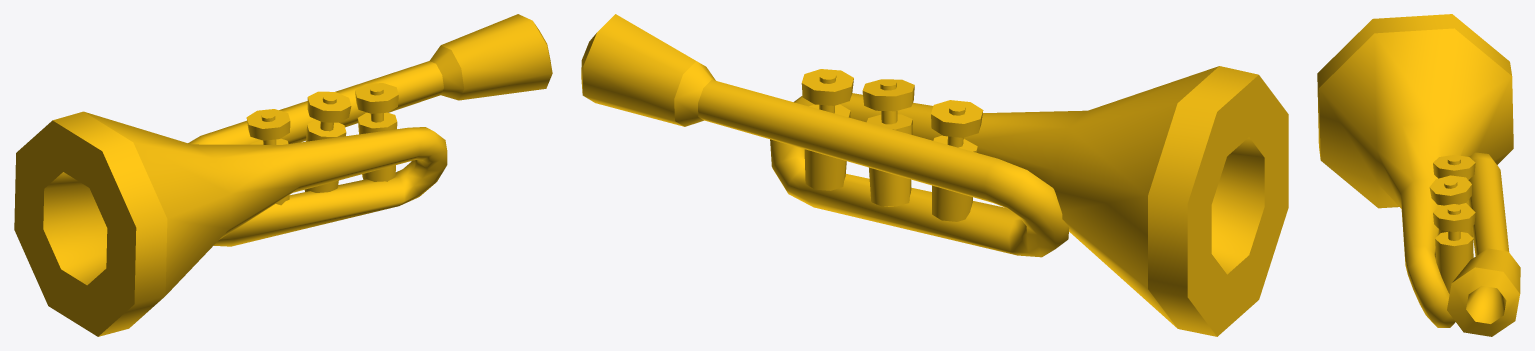
The model's file is Trumpet.obj.
3 views of the same model, side by side, from view 1: azimuth 30°, elevation 25°; view 2: azimuth 150°, elevation 25°; view 3: azimuth 270°, elevation 25° (orthographic). The views are drawn at different scales.
Parts seen in each view (by area): view 1: Handle1; view 2: Handle1; view 3: Handle1.
Boxes of the visible parts, left/top/right/bottom form: Handle1: left=14, top=14, right=552, bottom=336; Handle1: left=581, top=14, right=1288, bottom=336; Handle1: left=1317, top=14, right=1520, bottom=336.
Size of the model in its own units: 1.57 by 0.5515 by 0.5725.
